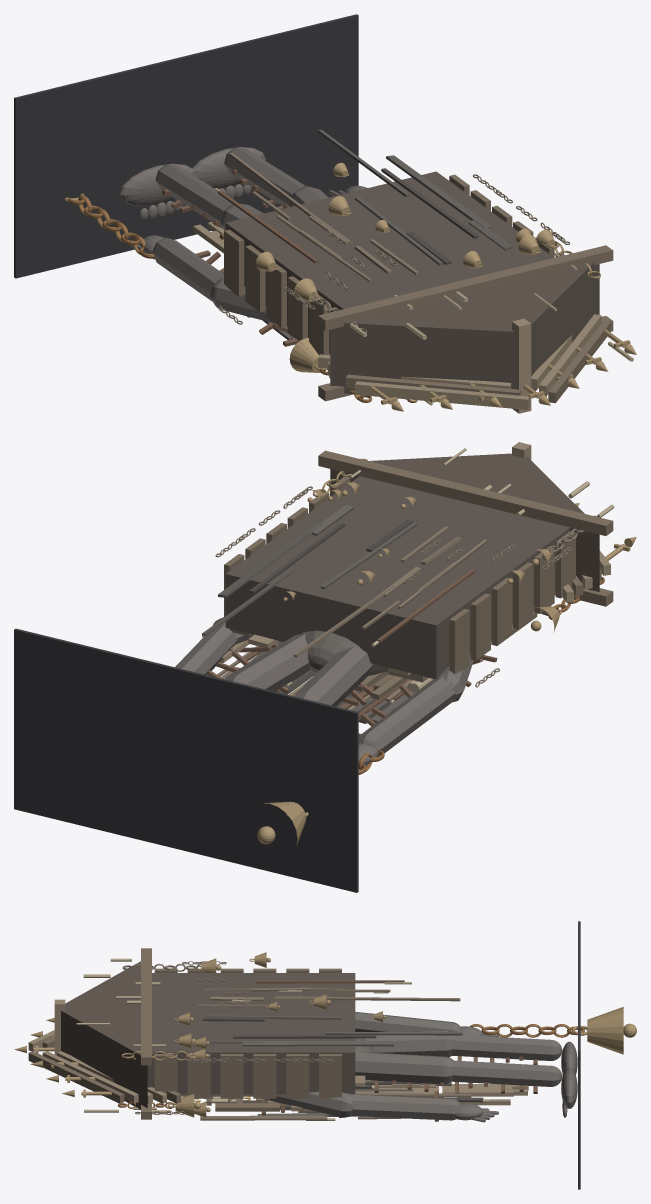
File: penance_carrier_prototype_blockout.glb
3 renders of one model, top to bottom at view 1: azimuth 30°, elevation 25°; view 2: azimuth 150°, elevation 25°; view 3: azimuth 270°, elevation 25°, orthographic. The views are drawn at different scales.
Visible parts, largest first — view 1: Scale_Base_dark_wet_ground_plane, House_Main_central_cabin_box_backpack, Roof_basic_steep_gable_mass, Roof_back_lower_eave_beam, Roof_left_sloped_weathered_beam_4, Body_left_shin_wrapped_core, Body_left_forearm_long, Body_right_shin_wrapped_core, Body_left_foot_broad_bare, Roof_center_ridge_beam, Body_right_foot_broad_bare, House_Main_side_0_side_plank_0 (+16 smaller); view 2: Scale_Base_dark_wet_ground_plane, House_Main_central_cabin_box_backpack, Roof_basic_steep_gable_mass, Roof_back_lower_eave_beam, Body_left_forearm_long, Body_left_thigh_wrapped_core, Body_right_thigh_wrapped_core, Body_right_forearm_long, Body_hunched_torso_mummified, House_Main_side_0_side_plank_1, House_Main_side_0_side_plank_2, House_Main_side_0_side_plank_0 (+5 smaller); view 3: House_Main_central_cabin_box_backpack, Roof_basic_steep_gable_mass, Body_right_thigh_wrapped_core, Body_right_forearm_long, Body_right_shin_wrapped_core, Body_left_shin_wrapped_core, Body_left_thigh_wrapped_core, Body_left_forearm_long, Bells_left_hand_large_bell_bell_body, Roof_back_lower_eave_beam, Body_right_upper_arm_long, House_Main_side_1_side_plank_2 (+21 smaller).
Boxes of the visible parts, x1,y1,x2,y2 form: Scale_Base_dark_wet_ground_plane: [14, 14, 358, 278]; House_Main_central_cabin_box_backpack: [225, 171, 553, 352]; Roof_basic_steep_gable_mass: [330, 262, 599, 393]; Roof_back_lower_eave_beam: [318, 245, 613, 330]; Roof_left_sloped_weathered_beam_4: [355, 381, 529, 409]; Body_left_shin_wrapped_core: [155, 164, 232, 228]; Body_left_forearm_long: [152, 237, 223, 301]; Body_right_shin_wrapped_core: [224, 147, 305, 207]; Body_left_foot_broad_bare: [119, 163, 194, 206]; Roof_center_ridge_beam: [512, 318, 531, 413]; Body_right_foot_broad_bare: [192, 147, 265, 188]; House_Main_side_0_side_plank_0: [224, 229, 244, 296]; Scale_Base_dark_wet_ground_plane: [14, 628, 358, 892]; House_Main_central_cabin_box_backpack: [225, 476, 570, 679]; Roof_basic_steep_gable_mass: [330, 453, 599, 591]; Roof_back_lower_eave_beam: [318, 450, 613, 535]; Body_left_forearm_long: [358, 676, 455, 756]; Body_left_thigh_wrapped_core: [294, 646, 372, 706]; Body_right_thigh_wrapped_core: [225, 634, 310, 691]; Body_right_forearm_long: [175, 623, 237, 674]; Body_hunched_torso_mummified: [300, 630, 388, 675]; House_Main_side_0_side_plank_1: [470, 593, 490, 660]; House_Main_side_0_side_plank_2: [492, 578, 512, 644]; House_Main_side_0_side_plank_0: [449, 609, 469, 673]; House_Main_central_cabin_box_backpack: [147, 973, 355, 1094]; Roof_basic_steep_gable_mass: [61, 961, 147, 1109]; Body_right_thigh_wrapped_core: [355, 1052, 453, 1084]; Body_right_forearm_long: [350, 1094, 460, 1120]; Body_right_shin_wrapped_core: [452, 1060, 562, 1086]; Body_left_shin_wrapped_core: [452, 1035, 562, 1060]; Body_left_thigh_wrapped_core: [364, 1030, 453, 1057]; Body_left_forearm_long: [355, 1012, 460, 1031]; Bells_left_hand_large_bell_bell_body: [587, 1007, 623, 1054]; Roof_back_lower_eave_beam: [141, 948, 151, 1065]; Body_right_upper_arm_long: [262, 1091, 353, 1117]; House_Main_side_1_side_plank_2: [253, 1054, 276, 1098].
Size of the model in its own units: 2.8 by 1.4 by 5.69.
